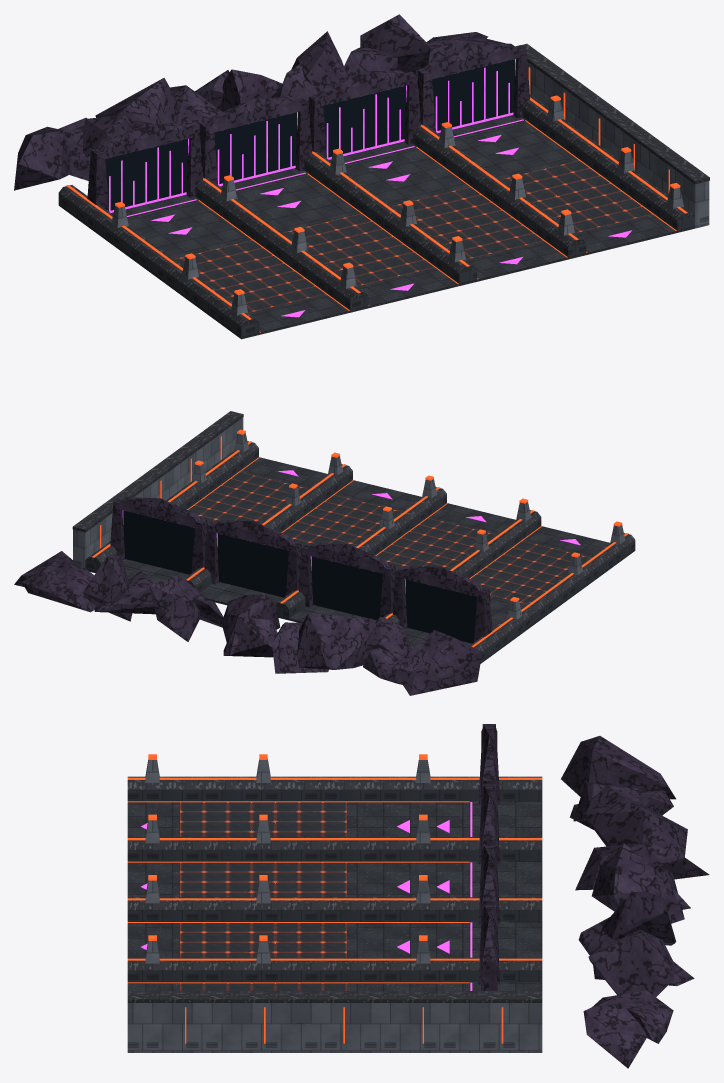
The model's file is env_lanes_e.glb.
3 views of the same model, one above another, from view 1: azimuth 30°, elevation 25°; view 2: azimuth 150°, elevation 25°; view 3: azimuth 270°, elevation 25° (orthographic). The views are drawn at different scales.
Parts seen in each view (by area): view 1: env_lanes_e; view 2: env_lanes_e; view 3: env_lanes_e.
Boxes of the visible parts, x1,y1,x2,y2 form: env_lanes_e: (14,14,709,339); env_lanes_e: (14,411,635,695); env_lanes_e: (127,724,709,1068).
Size of the model in its own units: 53.02 by 7.8 by 52.71.
9 materials, 9 textured.
